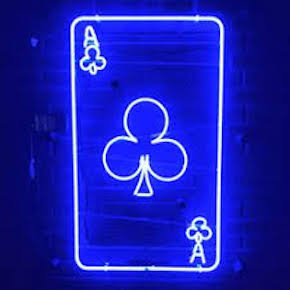AceOfClubs: (52, 8, 227, 276)
